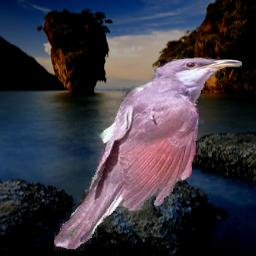Cuckoo: (54, 57, 242, 253)
